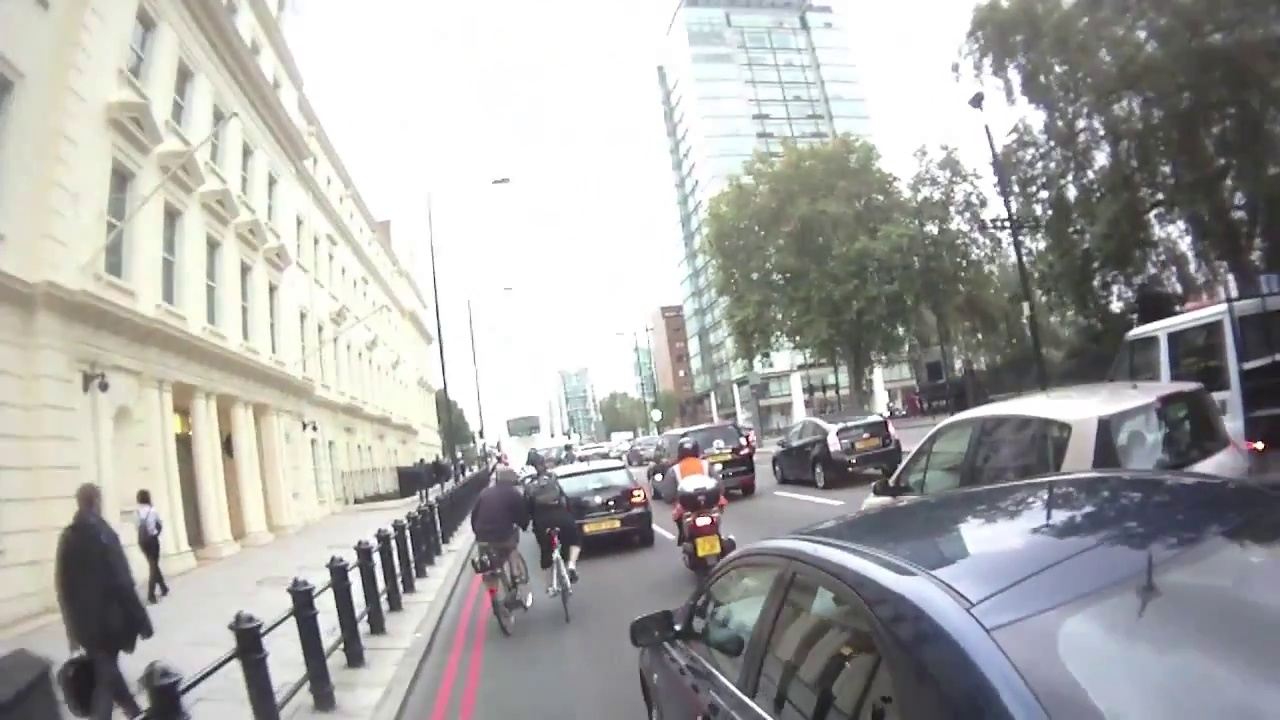cyclist_back: (658, 434, 745, 613), (473, 462, 542, 645), (527, 455, 591, 634)
